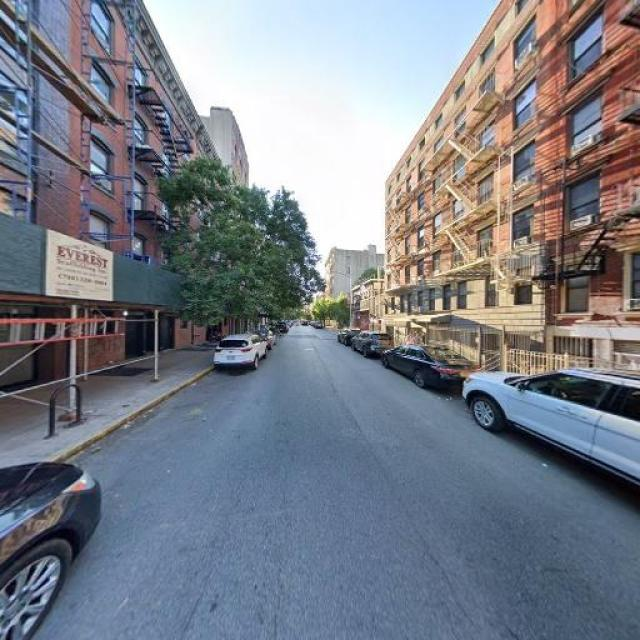Building: (387, 1, 539, 373), (545, 1, 640, 395), (1, 1, 75, 395)
